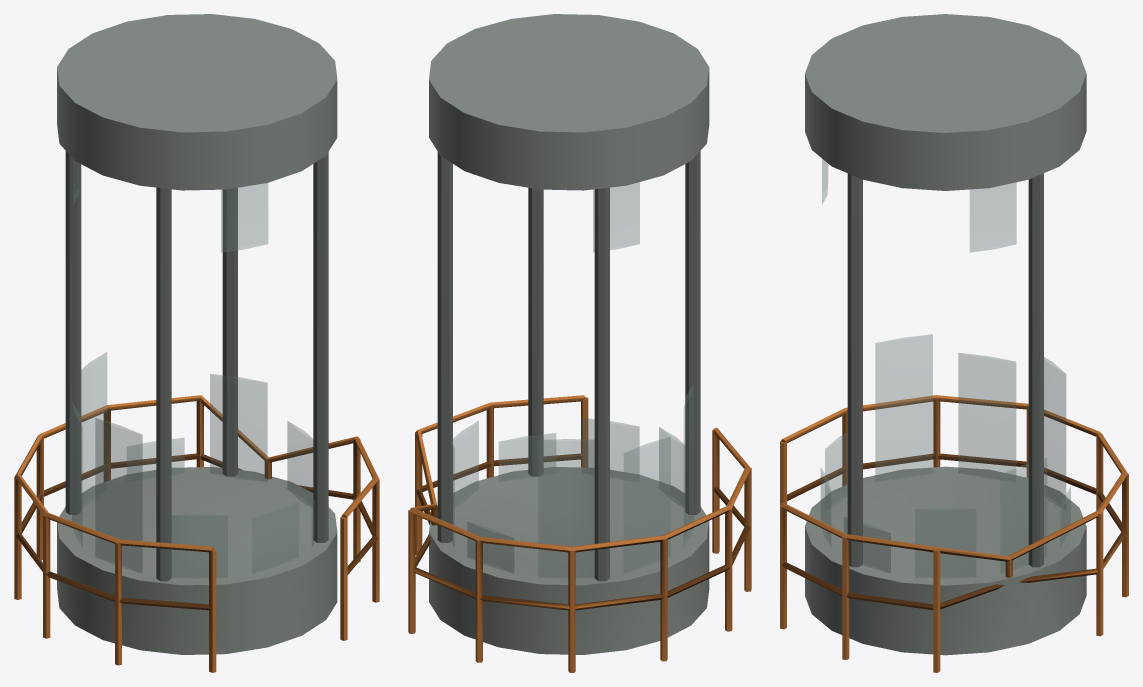
The model's file is big_tank_shattered.glb.
The picture shows the model from 3 angles, left to right: view 1: azimuth 30°, elevation 25°; view 2: azimuth 150°, elevation 25°; view 3: azimuth 270°, elevation 25°; orthographic projection.
Parts seen in each view (by area): view 1: BigTankShattered; view 2: BigTankShattered; view 3: BigTankShattered.
Part boxes in pixels (x1,y1,x2,y2): BigTankShattered: (14, 14, 379, 672); BigTankShattered: (408, 14, 751, 672); BigTankShattered: (780, 14, 1128, 672).
Size of the model in its own units: 2.85 by 4.5 by 2.72.
